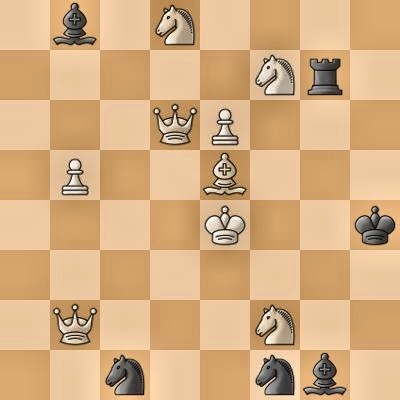black-bishop: (50, 0, 100, 50), (300, 350, 350, 400)
black-king: (350, 200, 400, 250)
black-knight: (100, 350, 150, 400), (250, 350, 300, 400)
black-rook: (300, 50, 350, 100)
white-bishop: (200, 150, 250, 200)
white-king: (200, 200, 250, 250)
white-knight: (150, 0, 200, 50), (250, 50, 300, 100), (250, 300, 300, 350)
white-pawn: (200, 100, 250, 150), (50, 150, 100, 200)
white-queen: (150, 100, 200, 150), (50, 300, 100, 350)
